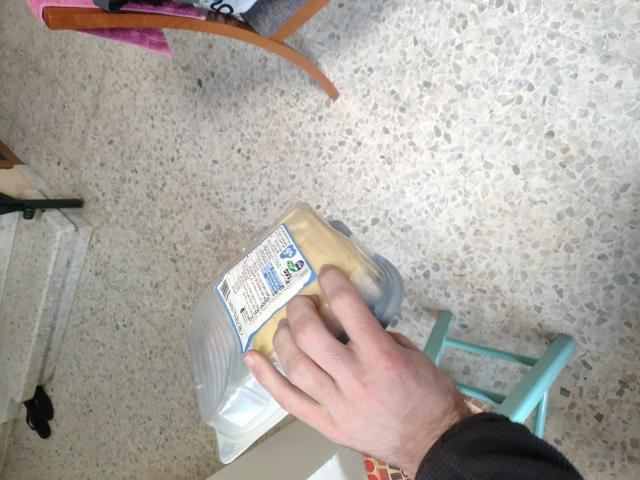cheese: (198, 209, 386, 457)
